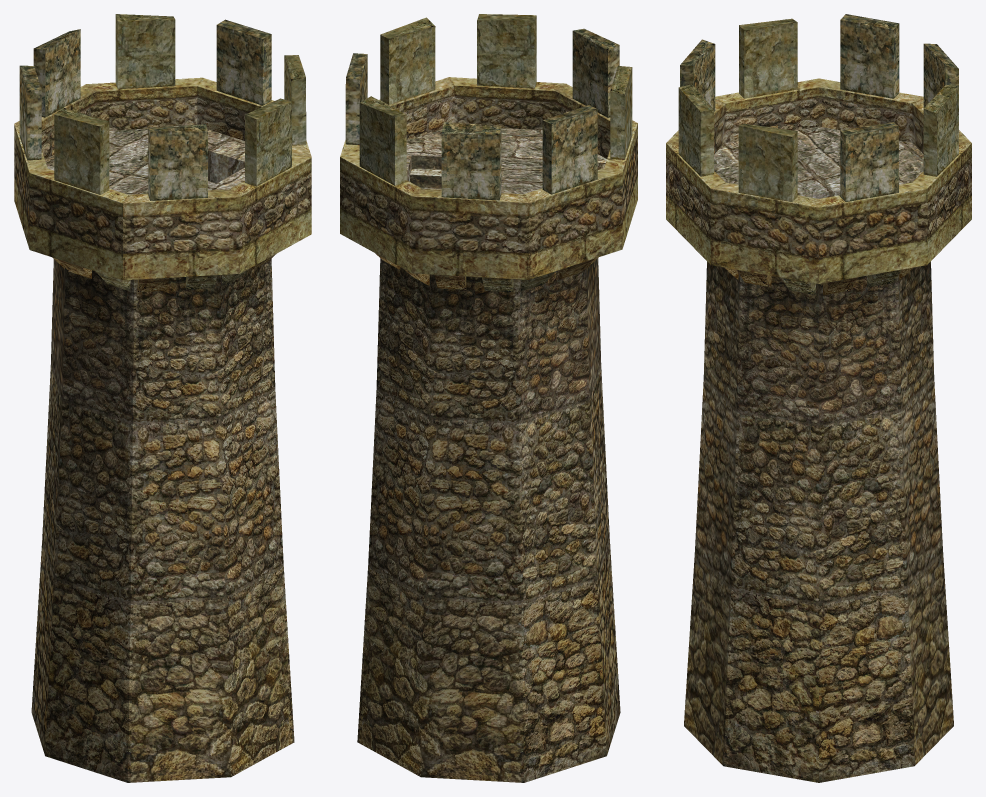
File: hrz40.glb
3 views of the same model, side by side, from view 1: azimuth 30°, elevation 25°; view 2: azimuth 150°, elevation 25°; view 3: azimuth 270°, elevation 25° (orthographic).
Parts seen in each view (by area): view 1: hrz40-col; view 2: hrz40-col; view 3: hrz40-col.
Boxes of the visible parts, left/top/right/bottom form: hrz40-col: left=14, top=14, right=311, bottom=782; hrz40-col: left=340, top=14, right=637, bottom=782; hrz40-col: left=666, top=14, right=971, bottom=782.
Size of the model in its own units: 6.35 by 14.95 by 6.35.
Materials: 16 (16 with a texture image).
